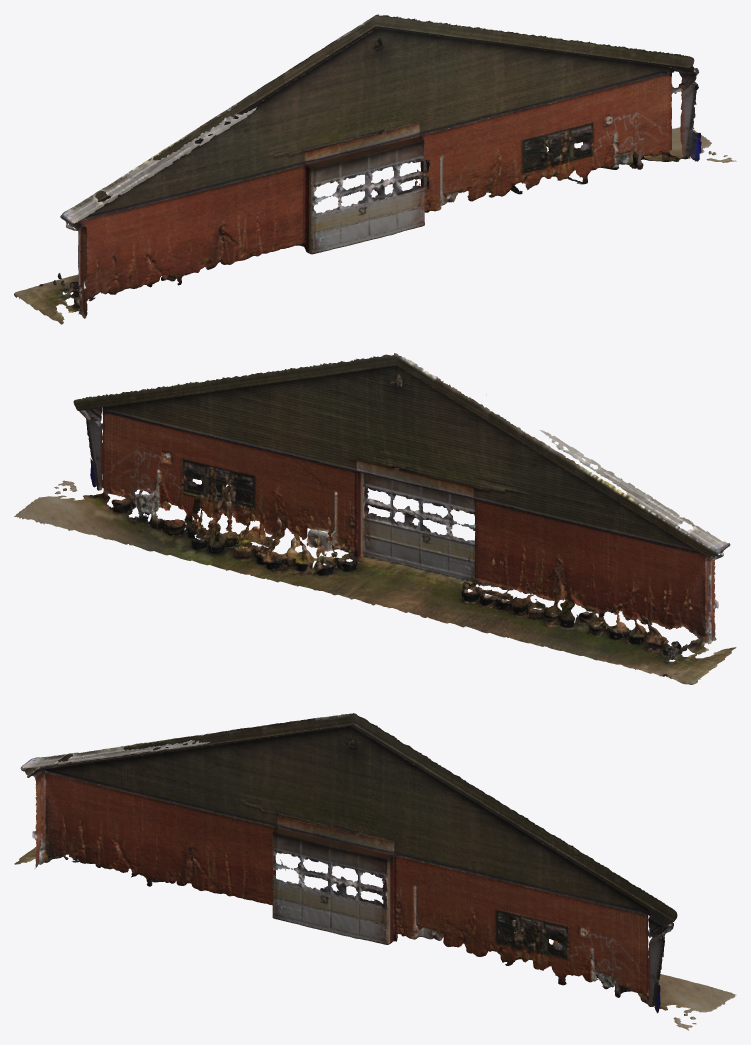
File: A4_Gavl_Nord.glb
The picture shows the model from 3 angles, top to bottom: view 1: azimuth 30°, elevation 25°; view 2: azimuth 150°, elevation 25°; view 3: azimuth 330°, elevation 25°; orthographic projection.
Visible parts, largest first — view 1: A4_Gavl_Nord; view 2: A4_Gavl_Nord; view 3: A4_Gavl_Nord.
Boxes of the visible parts, x1=… form: A4_Gavl_Nord: x1=14, y1=14, x2=736, y2=324; A4_Gavl_Nord: x1=14, y1=353, x2=736, y2=684; A4_Gavl_Nord: x1=14, y1=713, x2=736, y2=1030.
Size of the model in its own units: 28.47 by 9.03 by 3.66.
Materials: 1 (1 with a texture image).
